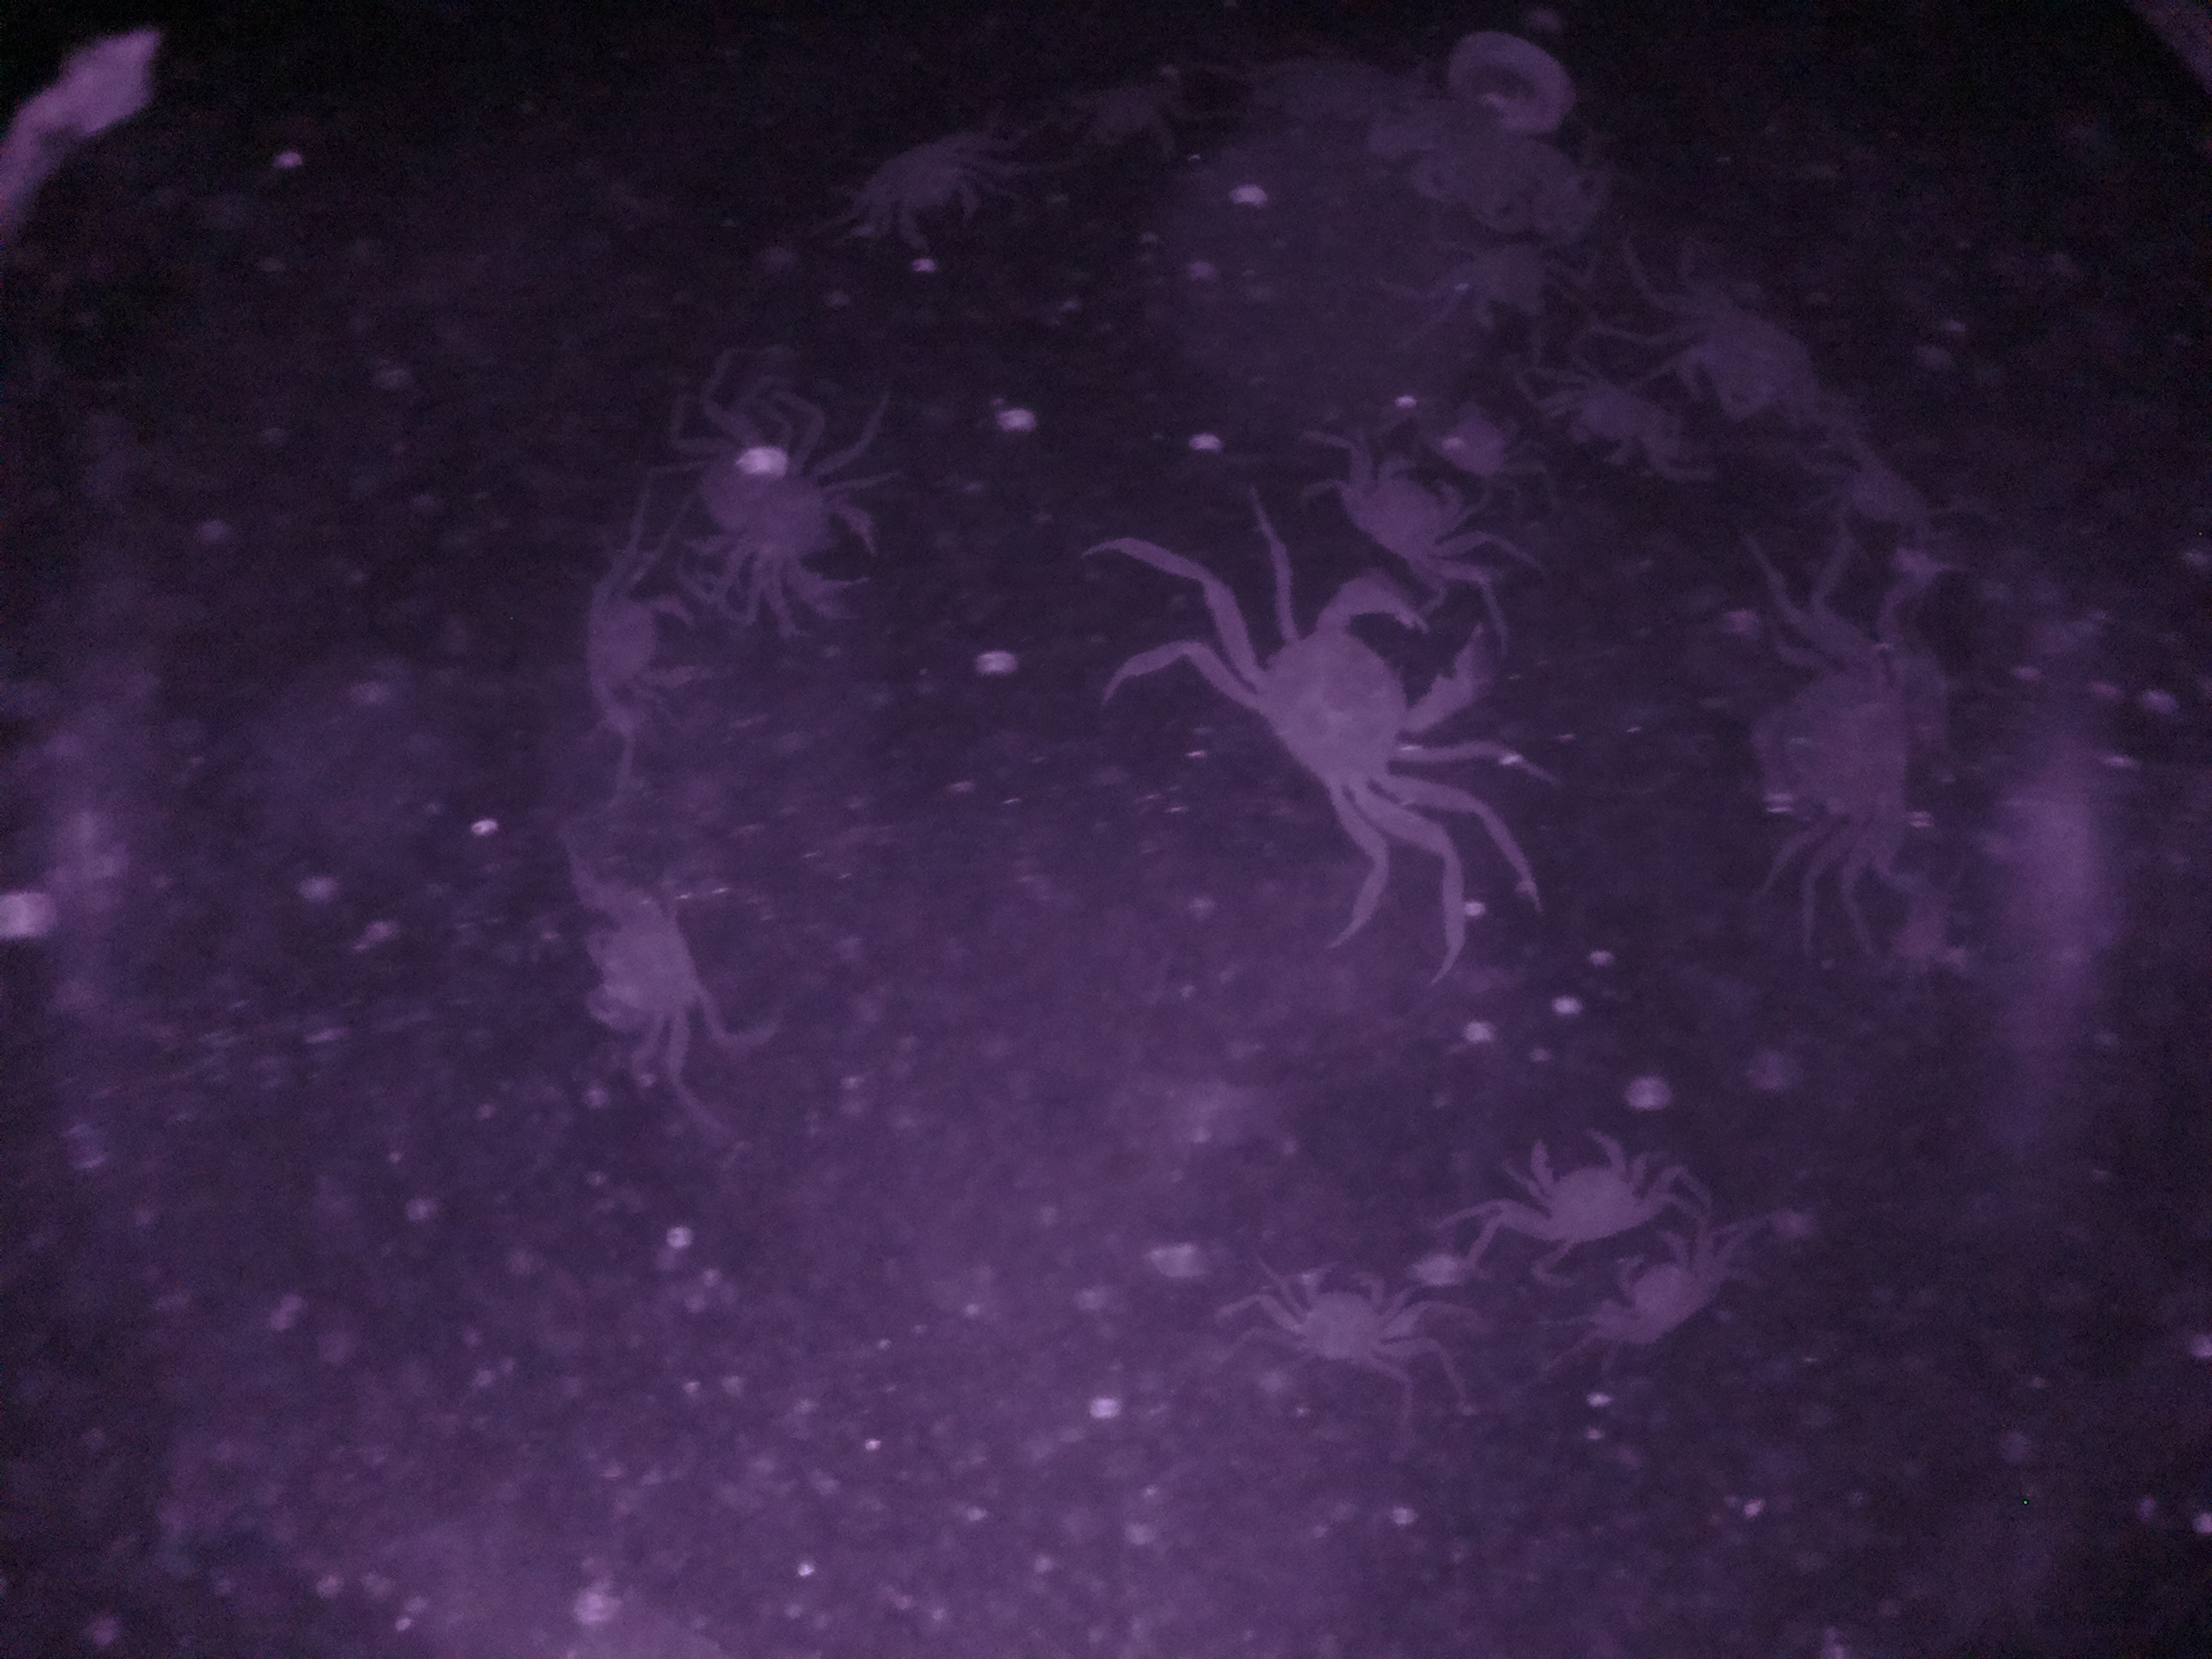Crab: (1204, 584, 1503, 838), (1756, 619, 1946, 884), (571, 857, 721, 1077), (1324, 434, 1501, 591), (1498, 1121, 1663, 1279), (1595, 1208, 1737, 1361), (1252, 1258, 1423, 1375)
